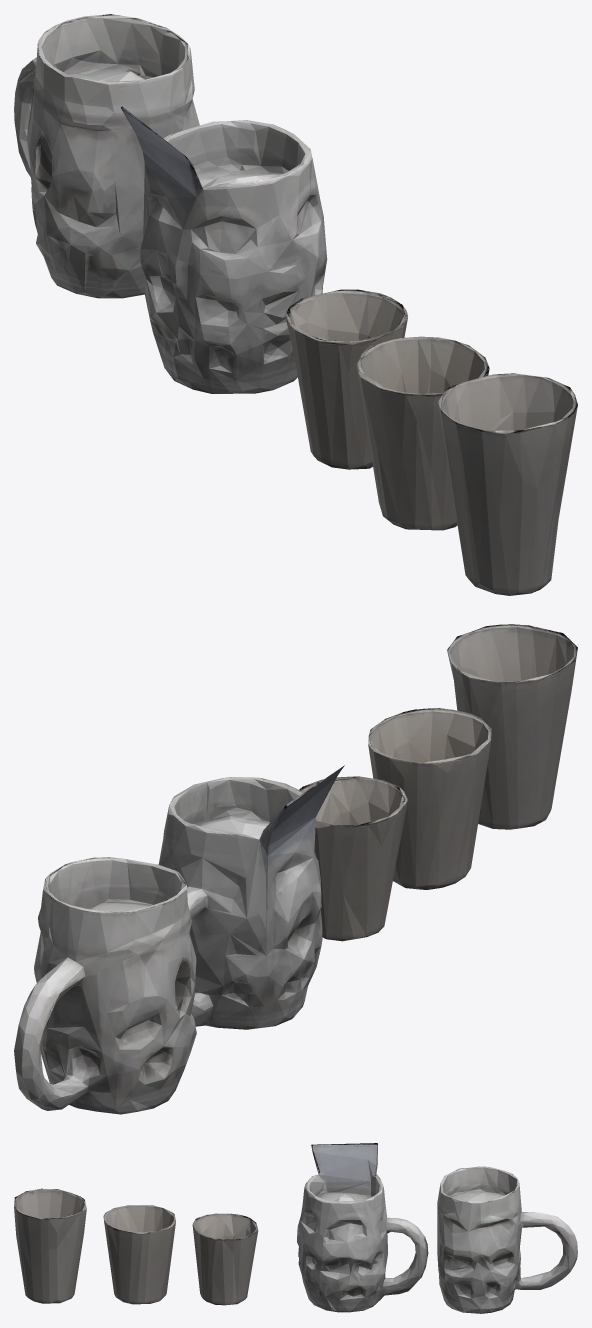
Rendered from mugs_row_light_grey.glb.
The picture shows the model from 3 angles, top to bottom: view 1: azimuth 30°, elevation 25°; view 2: azimuth 150°, elevation 25°; view 3: azimuth 270°, elevation 25°; orthographic projection. The views are drawn at different scales.
Visible parts, largest first — view 1: geometry_0; view 2: geometry_0; view 3: geometry_0.
Boxes of the visible parts, x1,y1,x2,y2 form: geometry_0: [14, 14, 577, 595]; geometry_0: [14, 624, 577, 1114]; geometry_0: [14, 1143, 577, 1313].
Bounding box in the file's own units: 0.1754 × 0.2638 × 1.
1 material, 1 textured.
